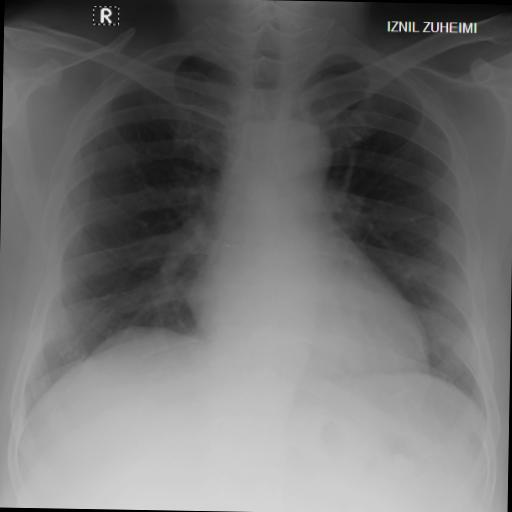kardiomegali: (12, 24, 509, 432)
